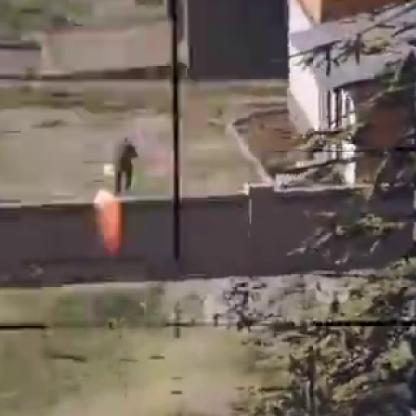enemy: (115, 137, 139, 195)
